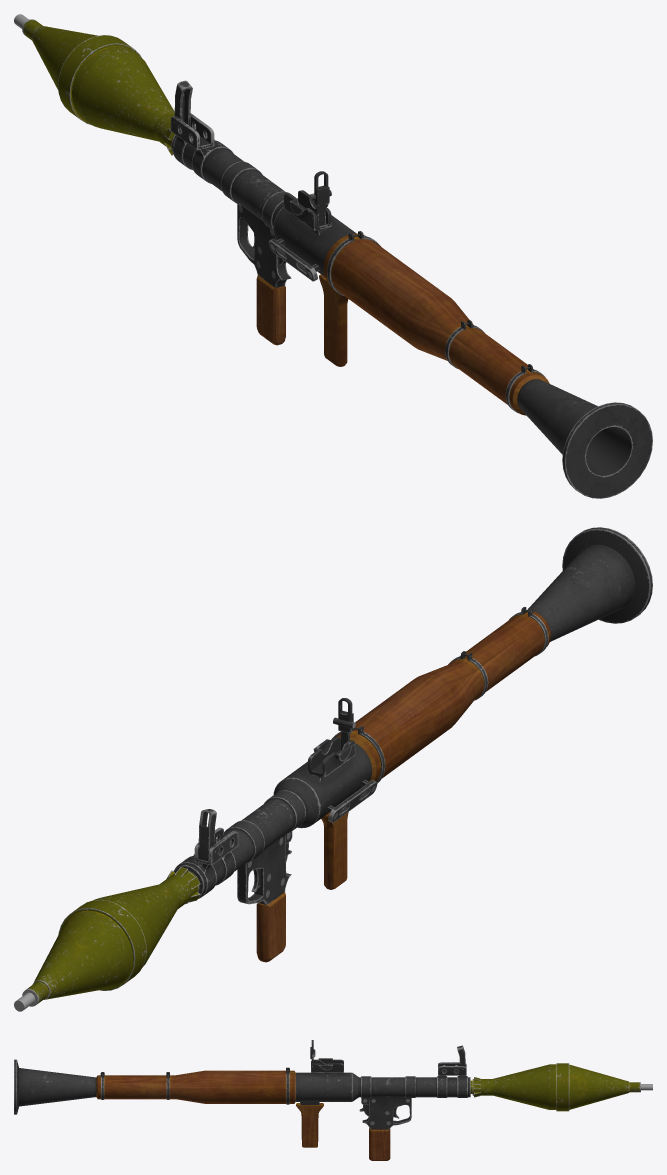
File: rocket_launcher_loaded.glb
The picture shows the model from 3 angles, top to bottom: view 1: azimuth 30°, elevation 25°; view 2: azimuth 150°, elevation 25°; view 3: azimuth 270°, elevation 25°; orthographic projection. The views are drawn at different scales.
Parts seen in each view (by area): view 1: RPG-7, RPG-7_Rocket; view 2: RPG-7, RPG-7_Rocket; view 3: RPG-7, RPG-7_Rocket.
Boxes of the visible parts, left/top/right/bottom form: RPG-7: left=170, top=80, right=652, bottom=498; RPG-7_Rocket: left=14, top=14, right=195, bottom=155; RPG-7: left=173, top=527, right=652, bottom=962; RPG-7_Rocket: left=14, top=867, right=200, bottom=1011; RPG-7: left=14, top=1040, right=470, bottom=1160; RPG-7_Rocket: left=470, top=1063, right=652, bottom=1111.
Size of the model in its own units: 0.1182 by 0.277 by 1.37.
Materials: 2 (2 with a texture image).
